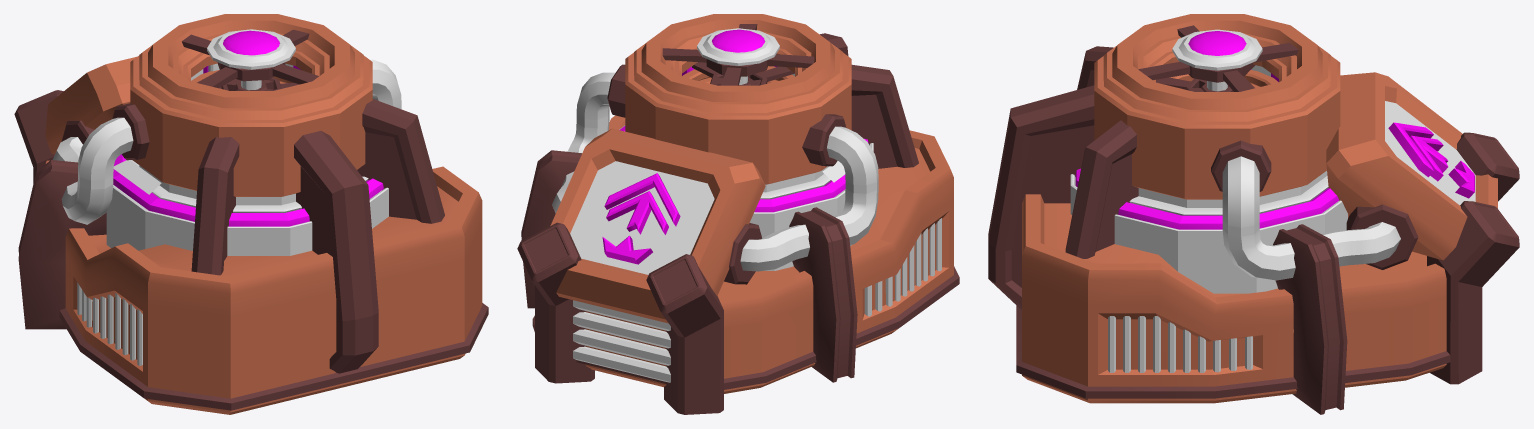
File: damage_module.fbx
3 renders of one model, left to right at view 1: azimuth 30°, elevation 25°; view 2: azimuth 150°, elevation 25°; view 3: azimuth 270°, elevation 25°, orthographic. The views are drawn at different scales.
Visible parts, largest first — view 1: group4_pCube178; view 2: group4_pCube178; view 3: group4_pCube178.
Part boxes in pixels (box(x1,y1,x2,y2)): group4_pCube178: box(14, 14, 488, 414); group4_pCube178: box(517, 14, 959, 414); group4_pCube178: box(988, 14, 1519, 414).
Bounding box in the file's own units: 52.15 × 40.48 × 65.58.
